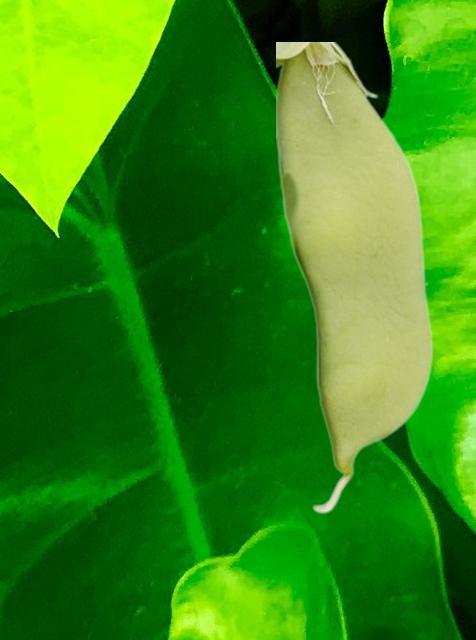pea: (276, 42, 432, 513)
